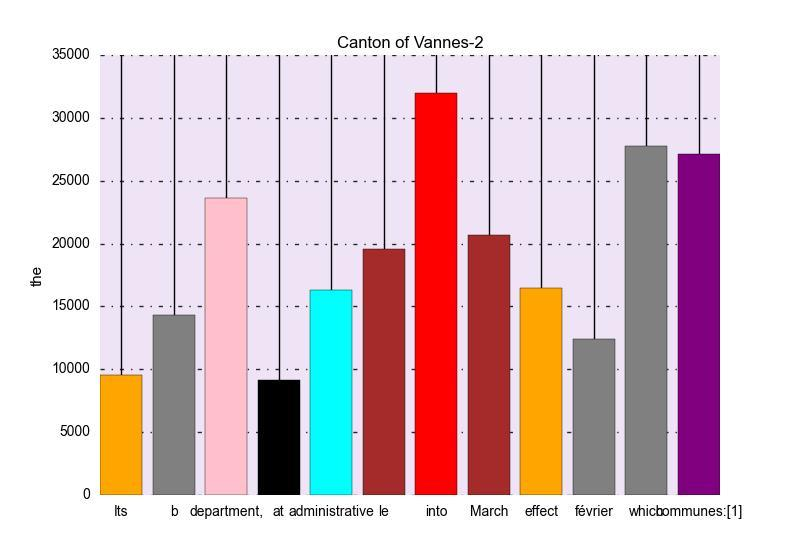axis: (30, 49, 90, 502)
rectangle: (416, 93, 458, 495), (626, 146, 668, 495), (678, 154, 720, 495), (205, 198, 247, 495), (468, 235, 510, 495), (362, 249, 404, 495), (520, 288, 562, 495), (310, 290, 352, 495), (152, 315, 194, 495), (573, 339, 615, 495), (100, 375, 142, 495), (258, 380, 300, 495)
